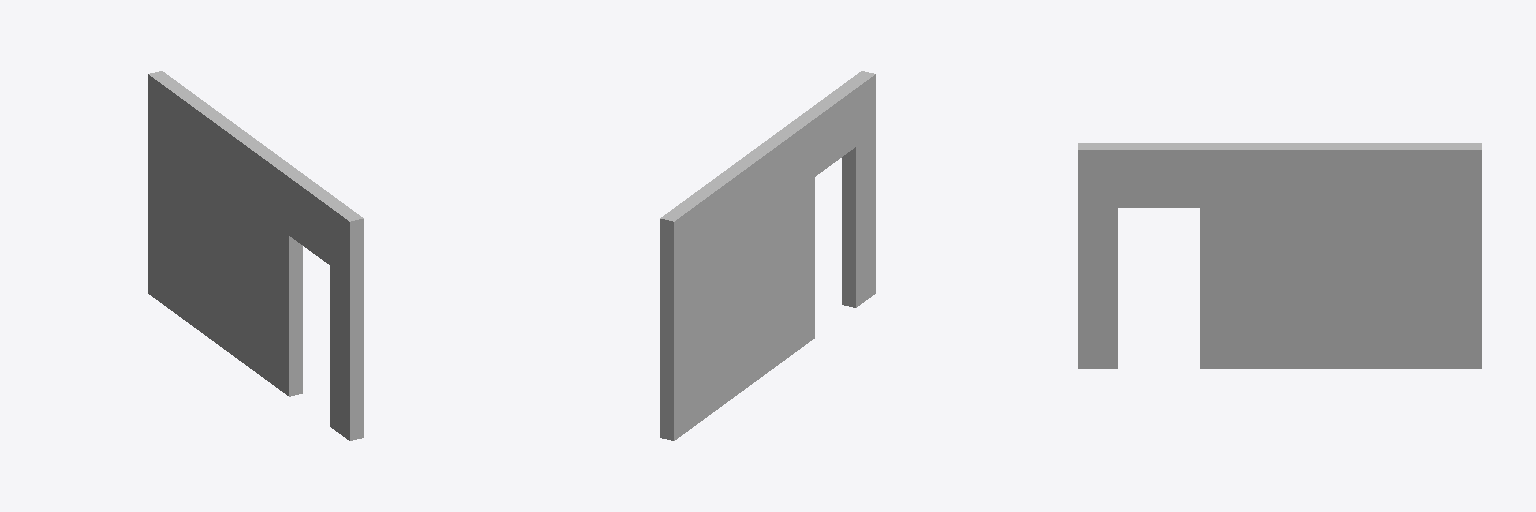
Rendered from wall_5x3_door_empty.obj.
3 renders of one model, left to right at view 1: azimuth 30°, elevation 25°; view 2: azimuth 150°, elevation 25°; view 3: azimuth 270°, elevation 25°, orthographic.
Parts seen in each view (by area): view 1: Wall; view 2: Wall; view 3: Wall.
Part boxes in pixels (x1,y1,x2,y2): Wall: (148, 71, 363, 440); Wall: (660, 71, 875, 440); Wall: (1078, 143, 1481, 368).
Size of the model in its own units: 0.2 by 3 by 5.